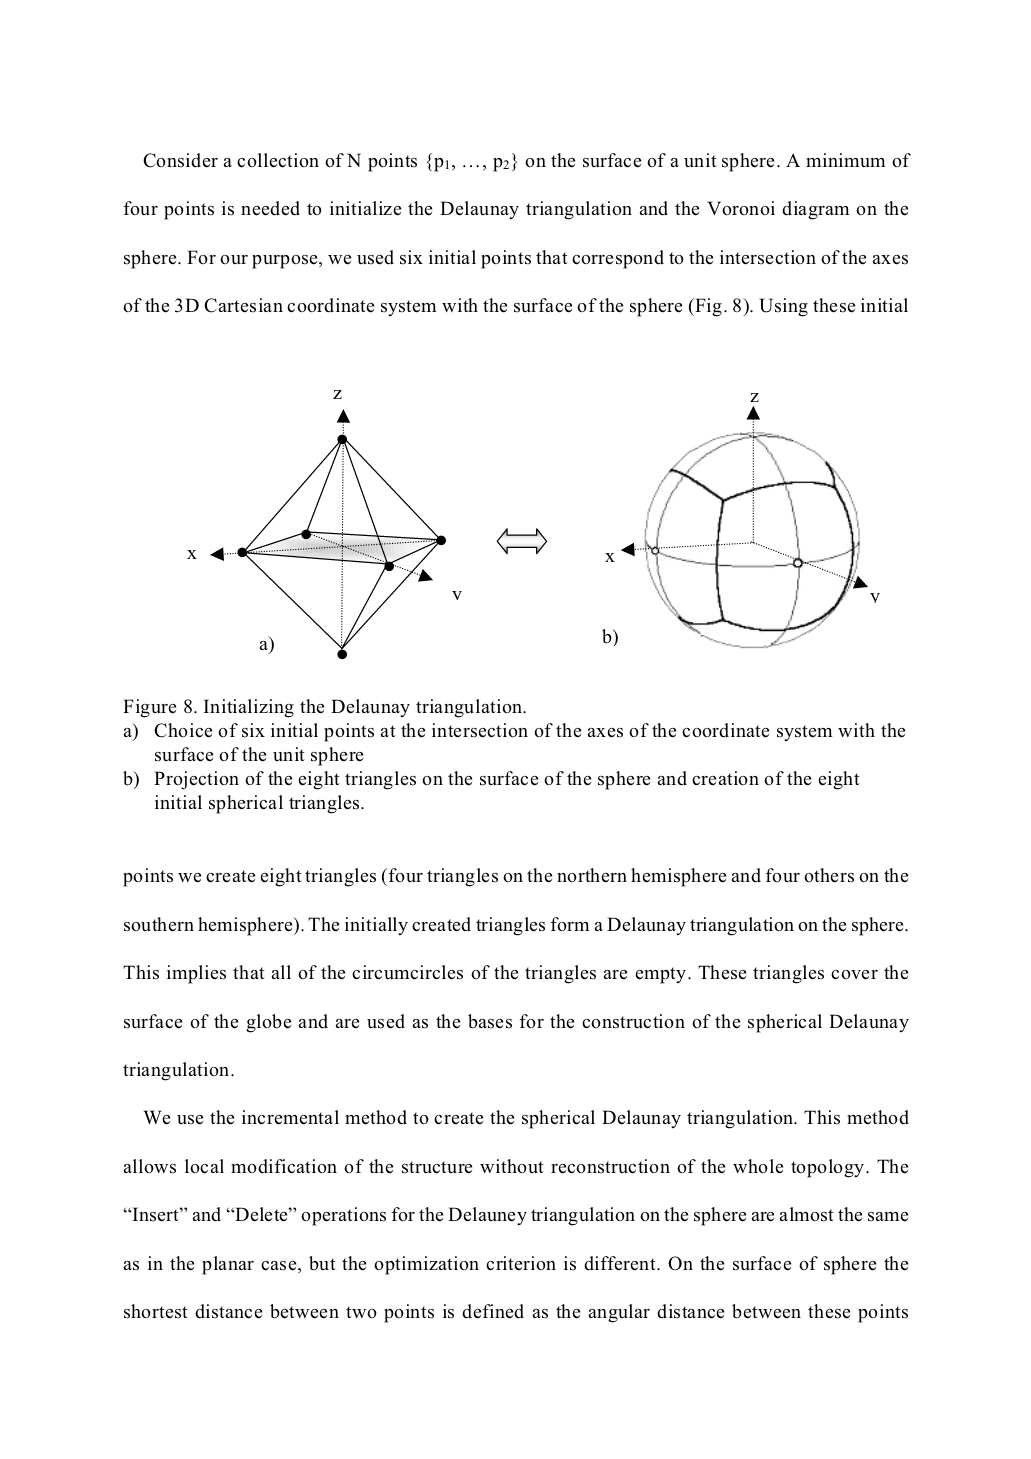figure: (187, 390, 461, 659), (603, 393, 879, 648), (497, 528, 547, 554)
